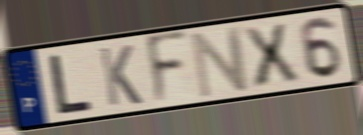6: (299, 15, 345, 82)
F: (143, 28, 190, 111)
K: (96, 42, 144, 108)
L: (47, 52, 95, 117)
N: (189, 24, 252, 101)
X: (239, 21, 303, 90)
